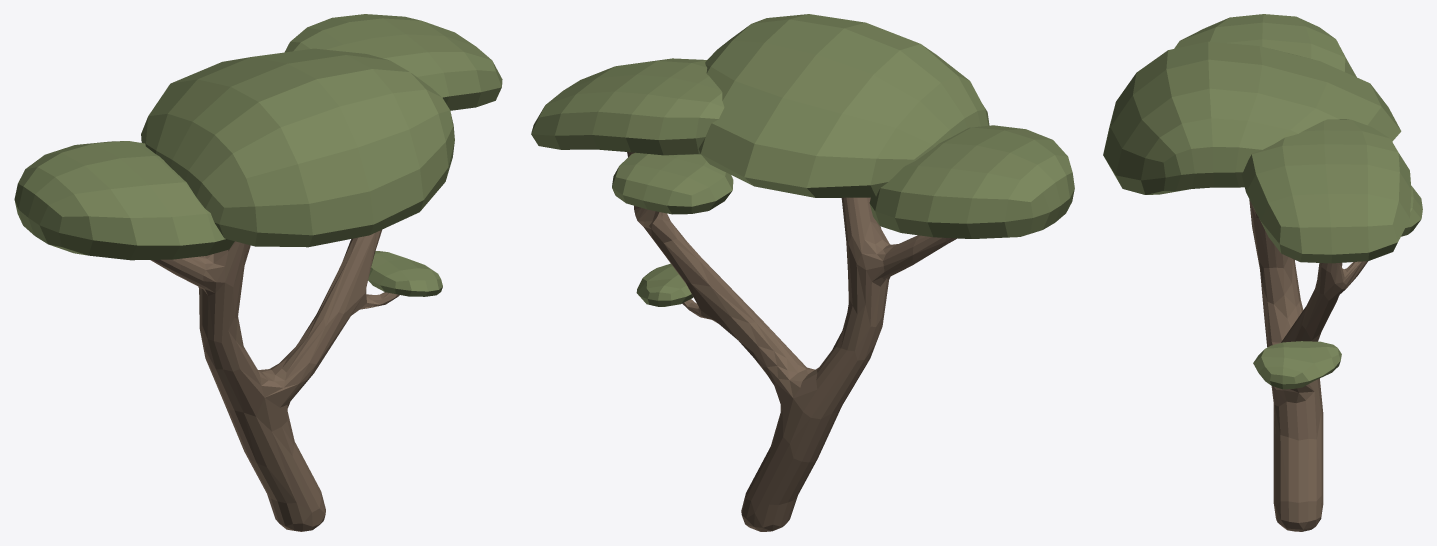
File: tree-10.fbx
The picture shows the model from 3 angles, left to right: view 1: azimuth 30°, elevation 25°; view 2: azimuth 150°, elevation 25°; view 3: azimuth 270°, elevation 25°; orthographic projection. The views are drawn at different scales.
Visible parts, largest first — view 1: Cube.054, Cube.040, Cube.055, Cube.051, Cube.053; view 2: Cube.054, Cube.040, Cube.055, Cube.051, Cube.052, Cube.053; view 3: Cube.054, Cube.051, Cube.040, Cube.055, Cube.053, Cube.052.
Part boxes in pixels (x1=…): Cube.054: x1=141, y1=48, x2=454, y2=247; Cube.040: x1=150, y1=230, x2=399, y2=531; Cube.055: x1=14, y1=141, x2=234, y2=260; Cube.051: x1=284, y1=14, x2=502, y2=110; Cube.053: x1=368, y1=251, x2=442, y2=296; Cube.054: x1=698, y1=14, x2=989, y2=197; Cube.040: x1=627, y1=152, x2=957, y2=531; Cube.055: x1=869, y1=125, x2=1074, y2=238; Cube.051: x1=531, y1=58, x2=724, y2=155; Cube.052: x1=612, y1=152, x2=733, y2=214; Cube.053: x1=636, y1=263, x2=693, y2=306; Cube.054: x1=1103, y1=41, x2=1401, y2=194; Cube.051: x1=1241, y1=119, x2=1411, y2=263; Cube.040: x1=1249, y1=199, x2=1368, y2=531; Cube.055: x1=1174, y1=14, x2=1356, y2=77; Cube.053: x1=1253, y1=341, x2=1341, y2=389; Cube.052: x1=1401, y1=185, x2=1422, y2=236.
Bounding box in the file's own units: 1762 × 1674 × 1068.
